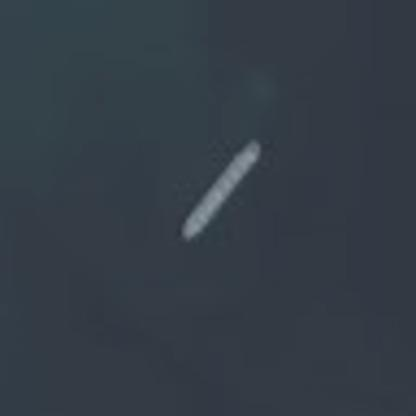ship: (170, 132, 265, 246)
